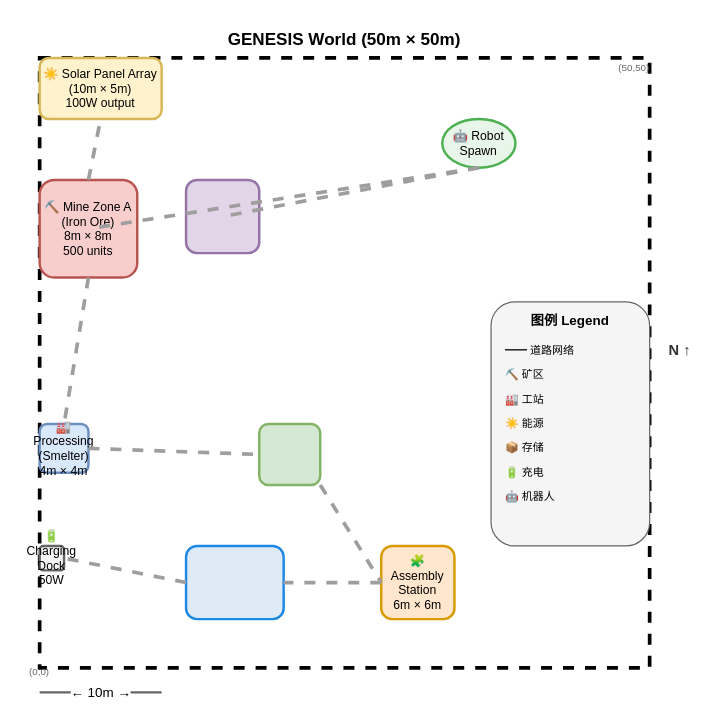
Image size: 719x721. Some labels were removed from this diagram. The centre of each missing label's shape, as x and y in pixels:
⛏️ Mine Zone B (Silicon Ore) 6m × 6m 300 units: the point at 222,216
📦 Warehouse 8m × 6m Capacity: 200: the point at 234,582
🔧 Fabrication (CNC/3D Print) 5m × 5m: the point at 289,454
